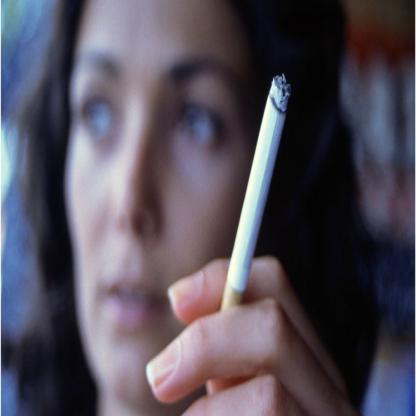smoking: (212, 74, 291, 362)
